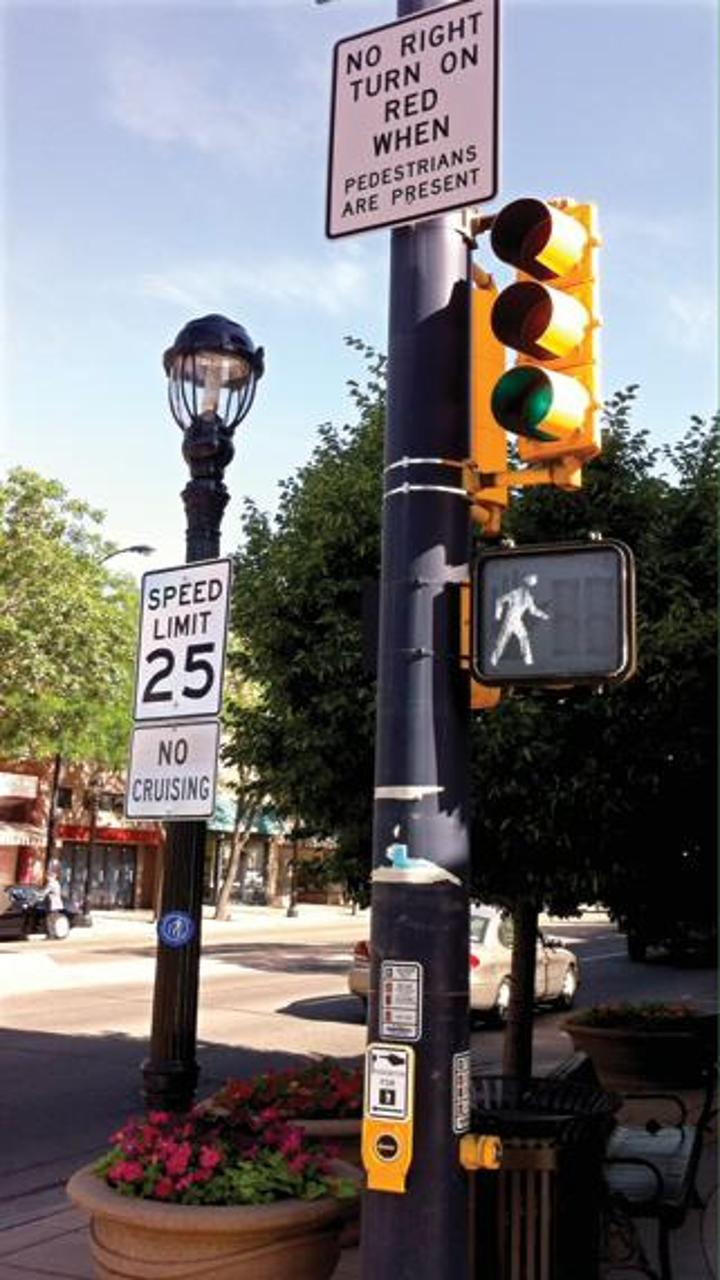Traffic sign: (76, 531, 271, 832), (473, 190, 650, 488), (326, 1, 498, 243), (470, 518, 650, 732)
